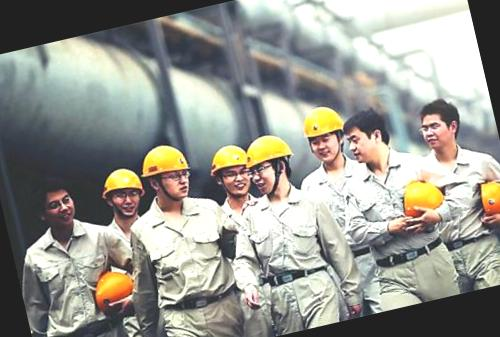no_helmet: (409, 93, 471, 155), (339, 102, 395, 168), (28, 174, 85, 232)
